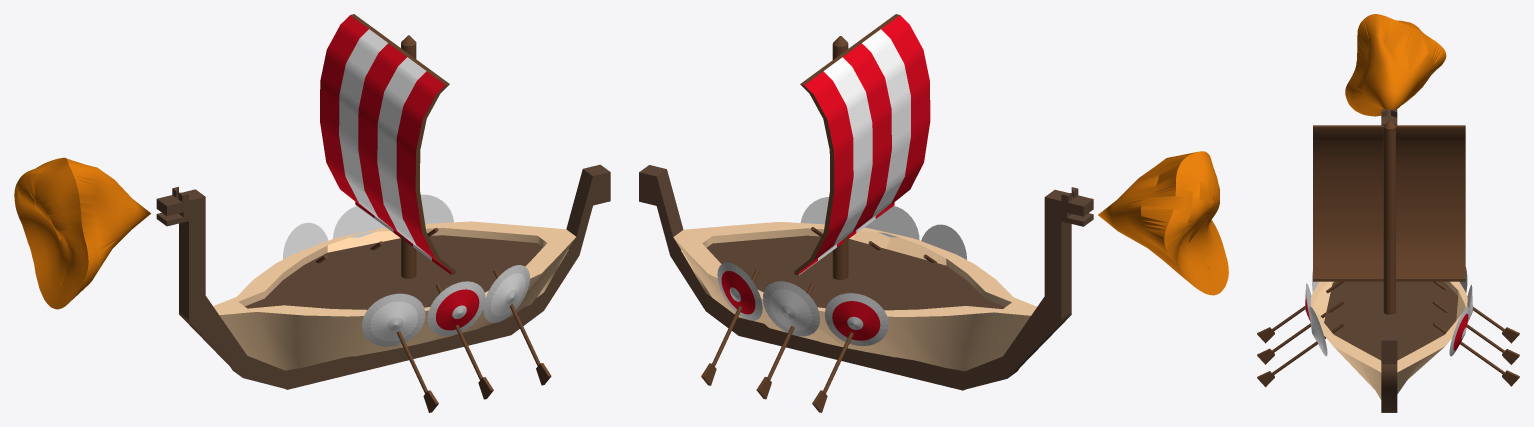
File: drakkar.glb
3 renders of one model, left to right at view 1: azimuth 30°, elevation 25°; view 2: azimuth 150°, elevation 25°; view 3: azimuth 270°, elevation 25°, orthographic. The views are drawn at different scales.
Visible parts, largest first — view 1: Cube, Cube.001, Cône.006, Cône.004, Cône.003, Cône.005, Cône.001, Cône, Cylindre, Cône.002, Cylindre.006; view 2: Cube, Cube.001, Cône.006, Cône, Cône.001, Cône.002, Cône.003, Cône.004, Cylindre, Cylindre.001, Cône.005, Cylindre.002; view 3: Cube.001, Cube, Cône.006, Cylindre, Cône.002, Cylindre.006, Cylindre.005, Cylindre.001, Cône.005, Cylindre.002, Cylindre.004, Cylindre.003.
Part boxes in pixels (x1,y1,x2,y2): Cube: (156,164,610,389); Cube.001: (320,14,455,274); Cône.006: (14,157,150,309); Cône.004: (362,293,425,346); Cône.003: (427,281,485,335); Cône.005: (483,265,529,322); Cône.001: (333,206,385,238); Cône: (283,222,328,259); Cylindre: (401,35,416,278); Cône.002: (420,194,453,223); Cylindre.006: (493,269,551,385); Cube: (639,165,1093,390); Cube.001: (794,14,930,275); Cône.006: (1098,151,1228,295); Cône: (824,293,888,345); Cône.001: (763,281,819,336); Cône.002: (717,262,762,320); Cône.003: (864,206,919,240); Cône.004: (921,224,966,259); Cylindre: (832,36,848,279); Cylindre.001: (701,270,759,385); Cône.005: (800,197,828,224); Cylindre.002: (756,283,814,399); Cube.001: (1313,125,1465,281); Cube: (1311,109,1467,412); Cône.006: (1345,14,1446,116); Cylindre: (1383,120,1395,314); Cône.002: (1449,307,1469,356); Cylindre.006: (1257,323,1343,387); Cylindre.005: (1257,301,1343,364); Cylindre.001: (1433,322,1519,386); Cône.005: (1309,306,1327,356); Cylindre.002: (1432,301,1519,364); Cylindre.004: (1257,281,1343,343); Cylindre.003: (1433,281,1519,343).
Bounding box in the file's own units: 11.73 × 6.27 × 5.87.
